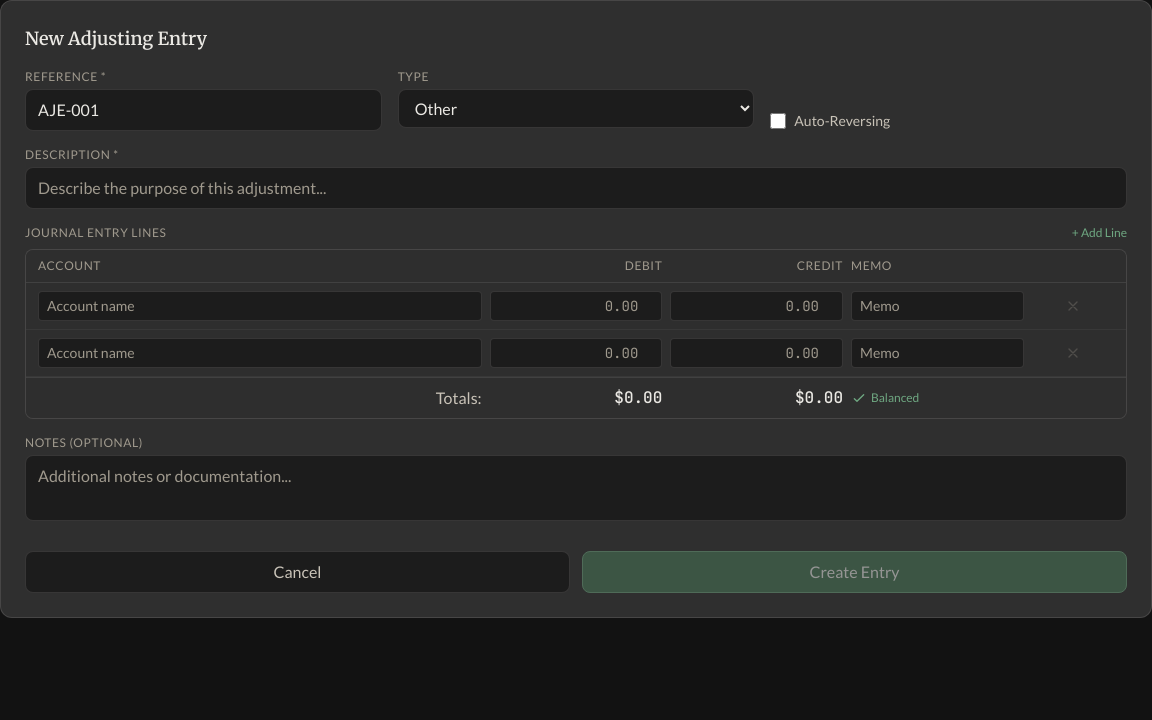
Test case: AdjustmentEntryForm › shows out of balance warning when debits do not equal credits
The image size is (1152, 720).
In the 1st number field with placeholder "0.00": (576, 306) [490,291,662,321], type "1000"
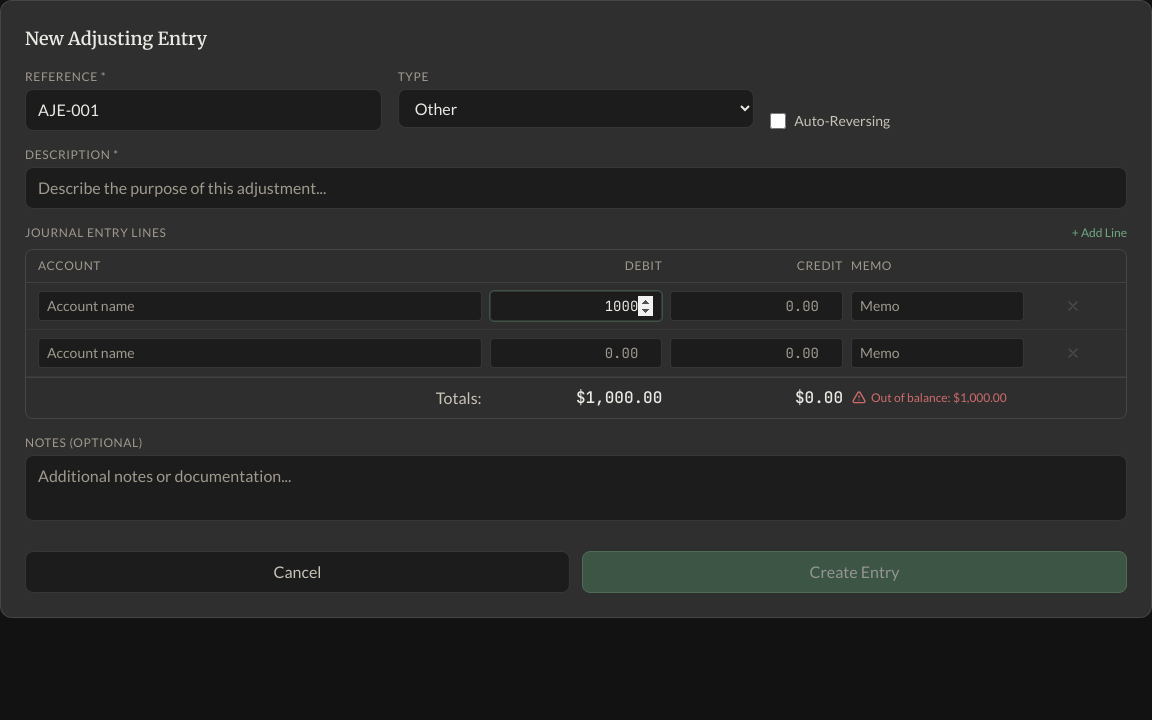
expect the text "Out of balance: $1,000.00" is shown: met, box [851,390,1007,406]
